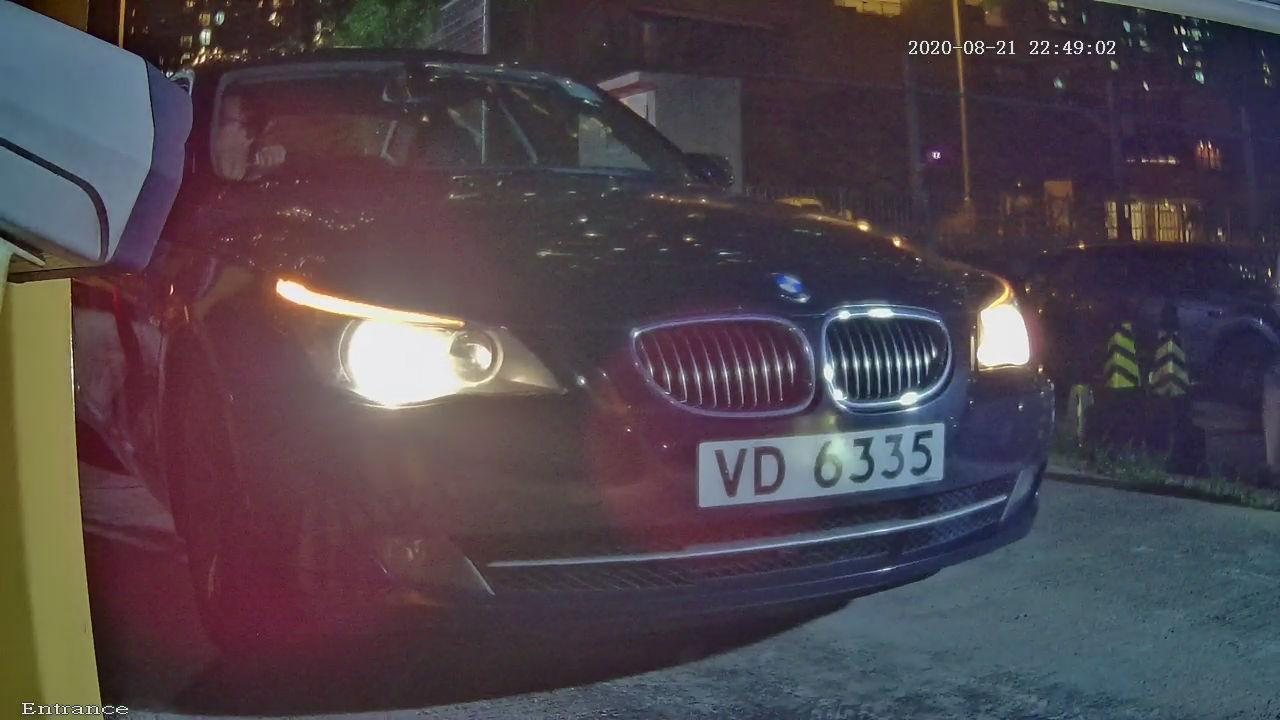Car: (6, 33, 1161, 653)
License Plate: (660, 394, 970, 533)
